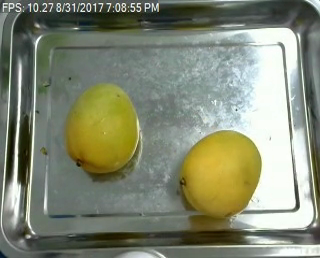Mango: (181, 127, 261, 216), (62, 81, 141, 171)
